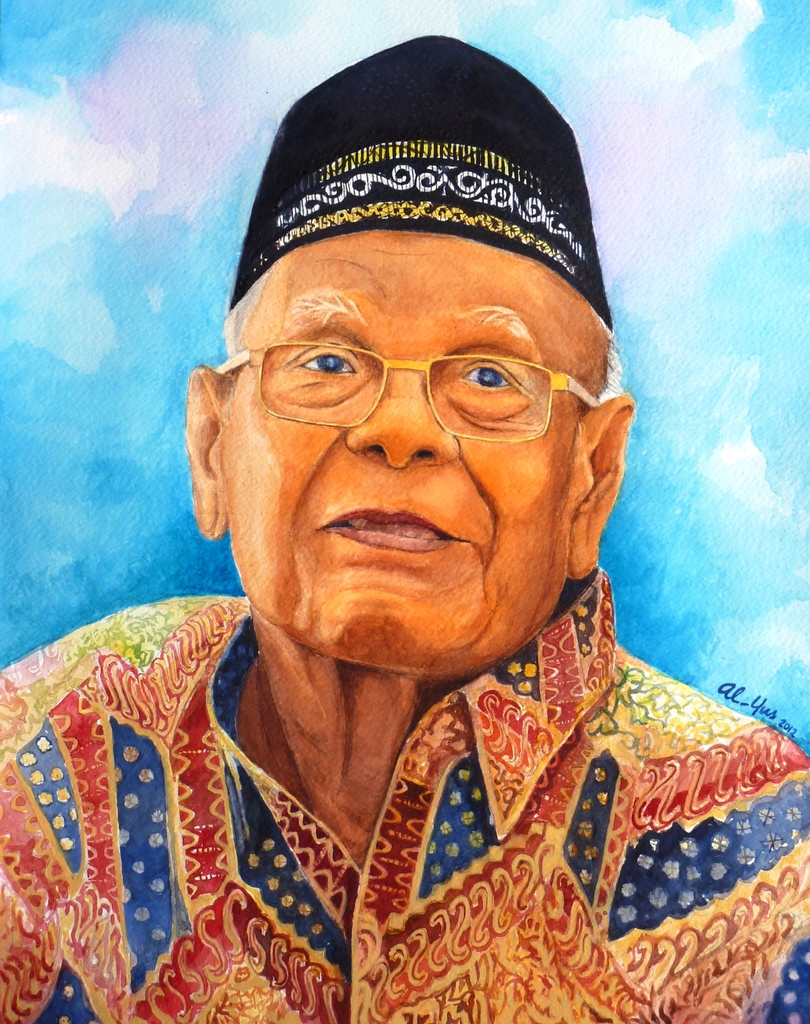Person: (0, 0, 810, 1024)
